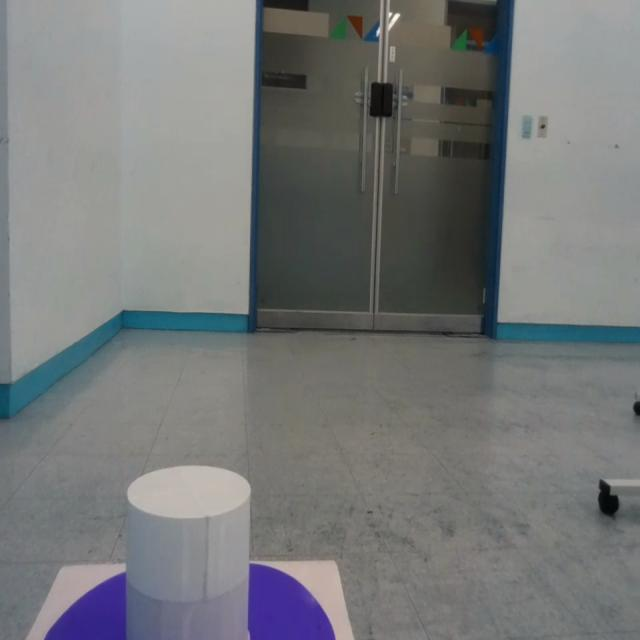cylinder: (125, 466, 252, 639)
